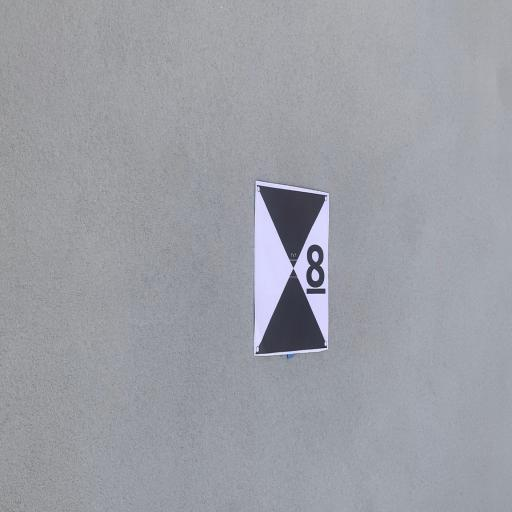target8: (253, 180, 330, 356)
